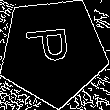P_E: (27, 30, 80, 72)
